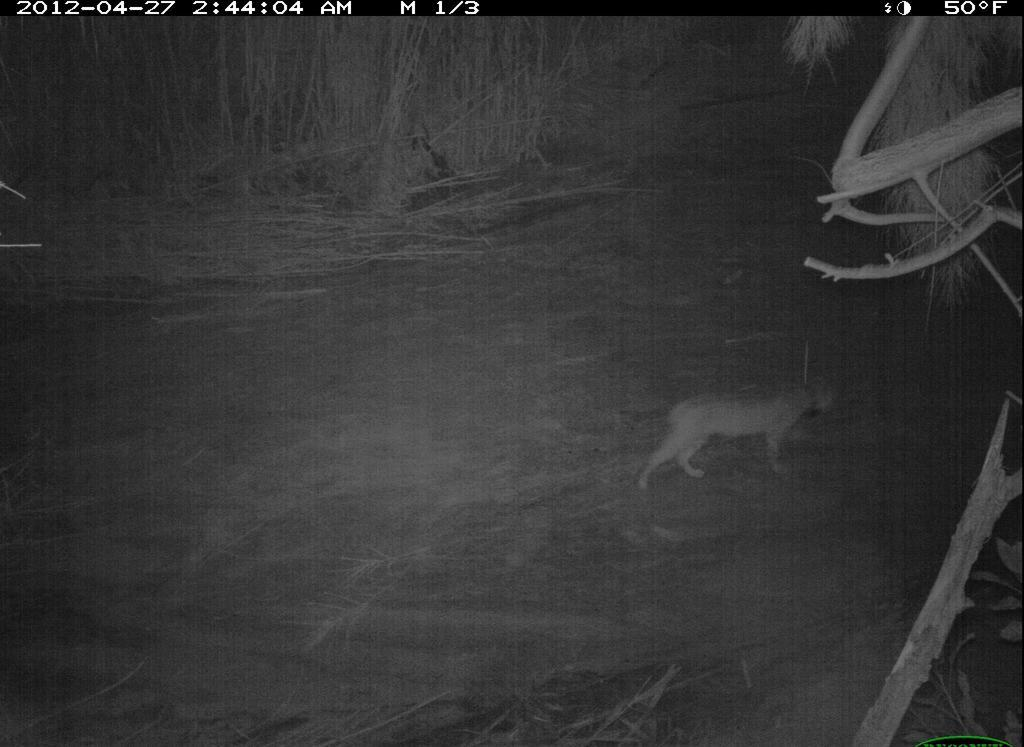bobcat: (628, 346, 848, 502)
